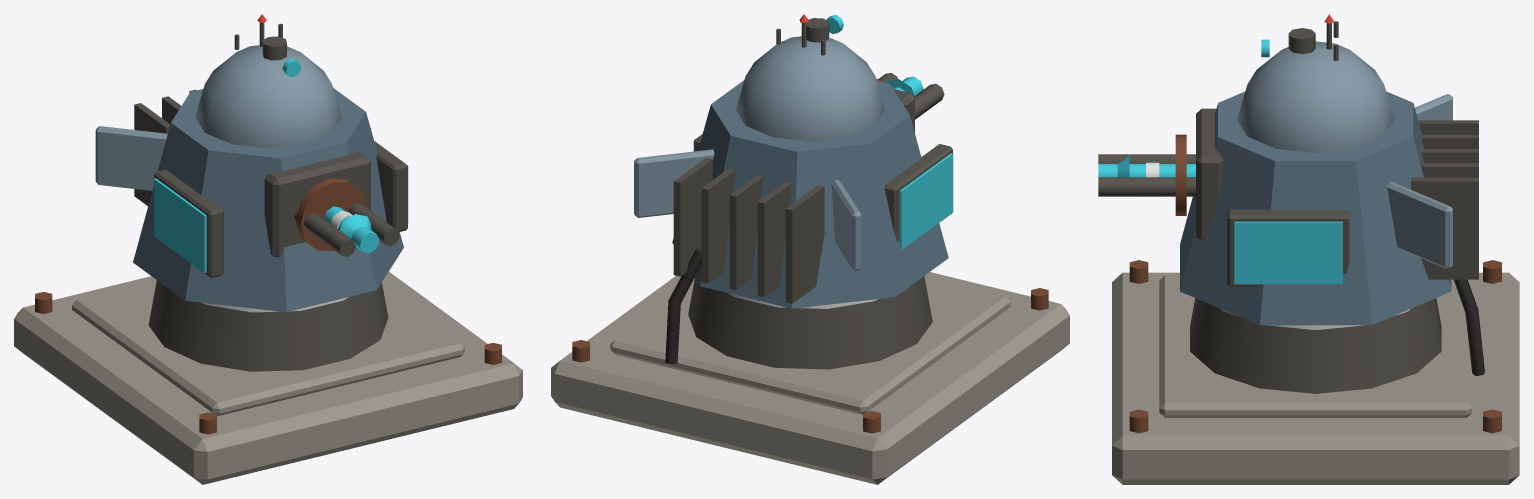
The picture shows the model from 3 angles, left to right: view 1: azimuth 30°, elevation 25°; view 2: azimuth 150°, elevation 25°; view 3: azimuth 270°, elevation 25°; orthographic projection. The views are drawn at different scales.
Parts seen in each view (by area): view 1: dweller_building_turret_laser; view 2: dweller_building_turret_laser; view 3: dweller_building_turret_laser.
Boxes of the visible parts, x1=… form: dweller_building_turret_laser: x1=14, y1=14, x2=522, y2=484; dweller_building_turret_laser: x1=551, y1=14, x2=1069, y2=484; dweller_building_turret_laser: x1=1098, y1=14, x2=1519, y2=484.
Size of the model in its own units: 3 by 3.16 by 3.1.
